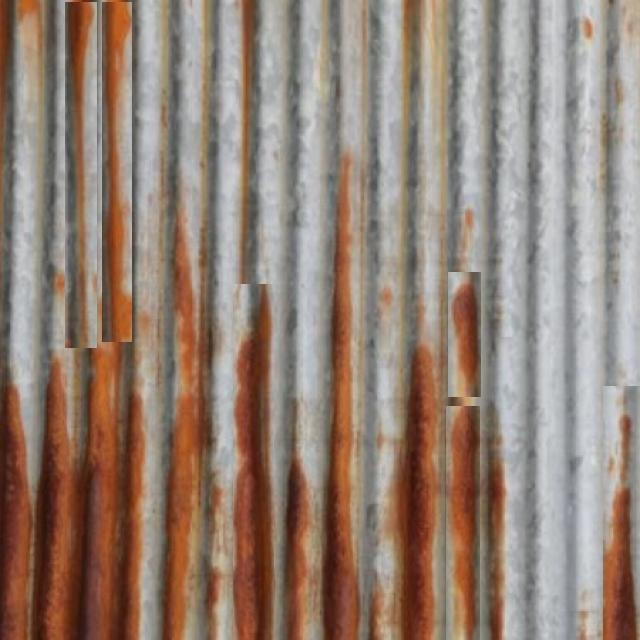Corrosion: (163, 238, 207, 640), (325, 210, 358, 640), (83, 366, 121, 640), (406, 346, 440, 640), (103, 1, 132, 342), (37, 380, 75, 640), (0, 387, 31, 640), (448, 407, 481, 640), (234, 331, 258, 640), (287, 451, 324, 640), (605, 488, 638, 640), (449, 280, 481, 397)
